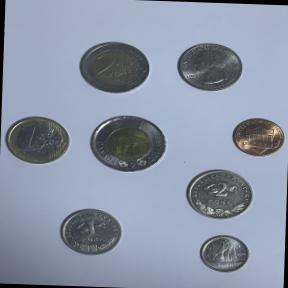coin: (84, 111, 170, 176), (74, 36, 154, 98), (182, 164, 255, 224), (0, 112, 74, 170), (172, 39, 246, 94), (229, 114, 288, 158), (196, 232, 252, 276)
